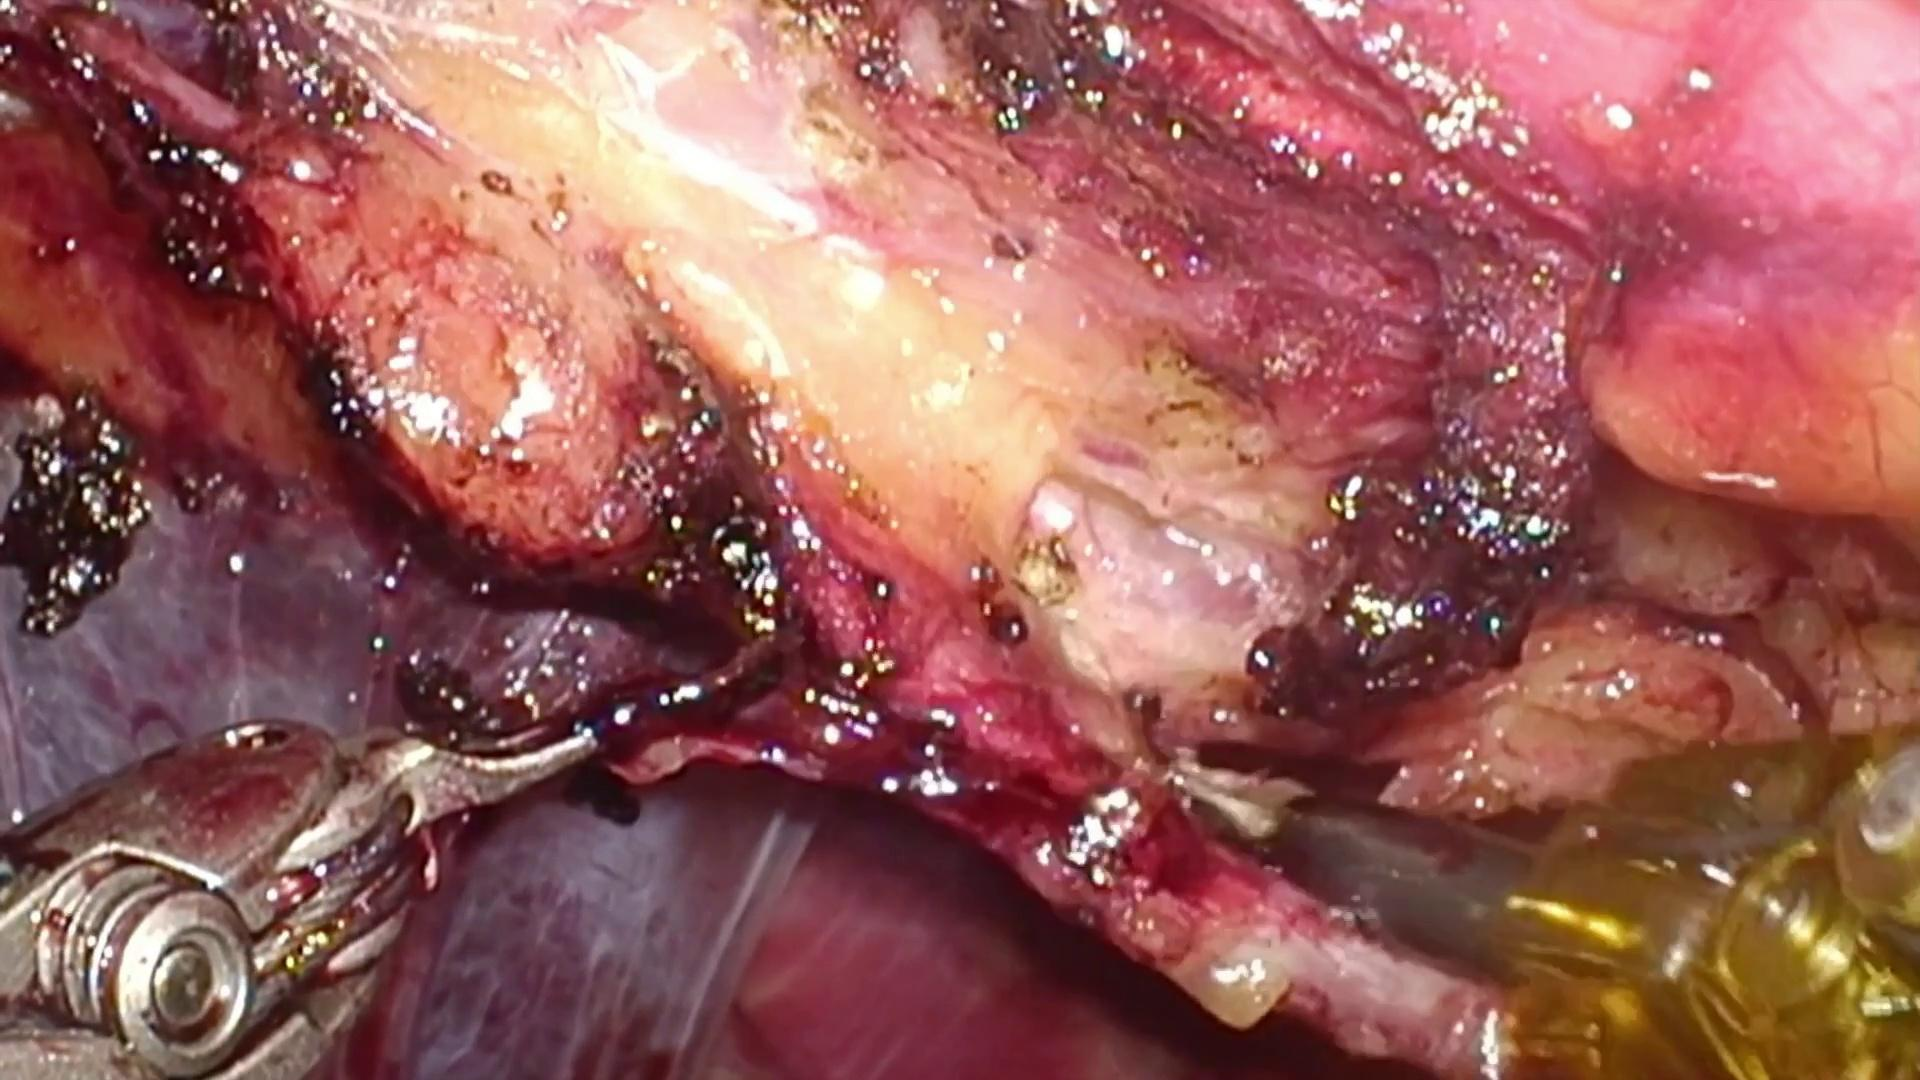Cautery_Spatula: (1142, 736, 1547, 1004)
Debakey: (356, 678, 624, 832)
